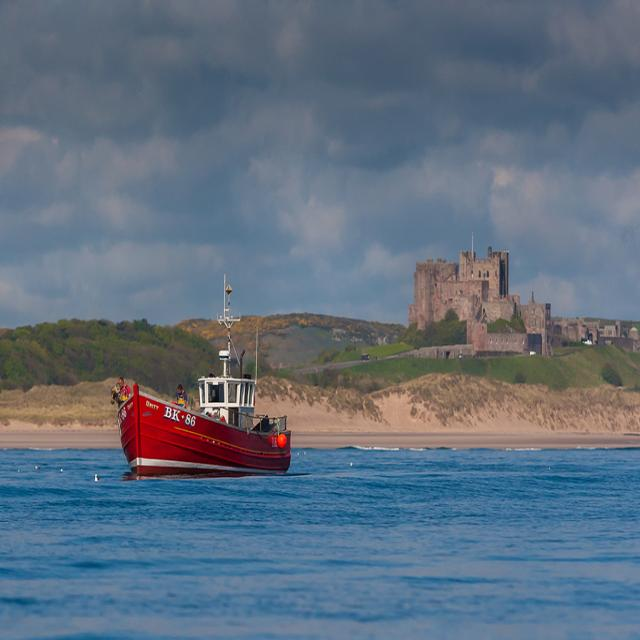Boat: (116, 272, 293, 476)
